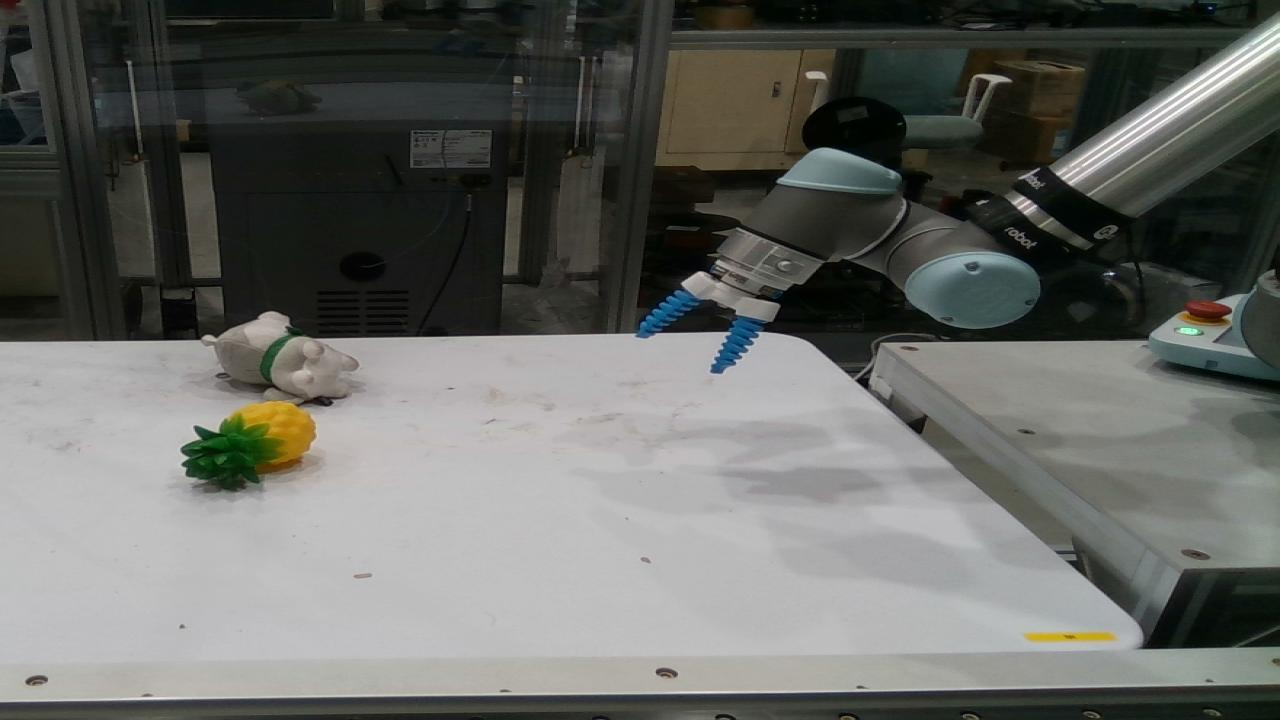UR5: (688, 24, 1278, 327)
gripper_left: (636, 290, 700, 338)
gripper_right: (718, 316, 760, 371)
target: (208, 312, 358, 405), (182, 402, 314, 489)
